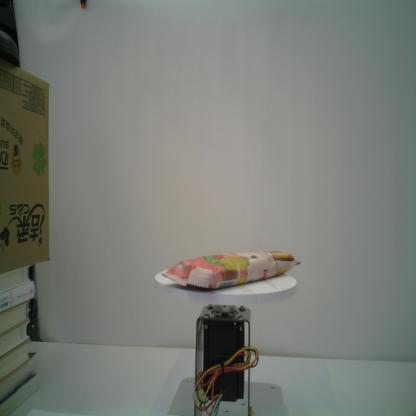Dessert: (157, 250, 301, 291)
